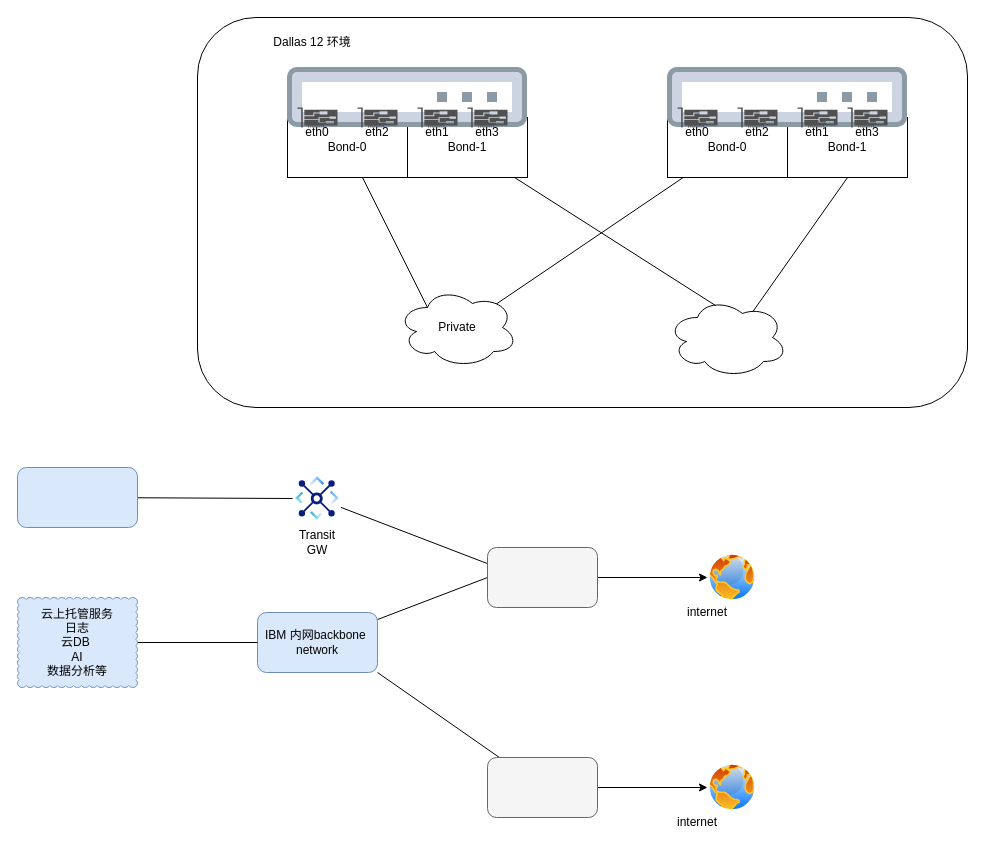
Image size: 985x855. Some labels were removed from this diagram. The centre of each missing label's shape, as x and y in pixels:
IBM VPC 环境: the point at 77,497
Public: the point at 727,337
欧洲 物理机集群: the point at 542,787
美国 物理机集群: the point at 542,577
